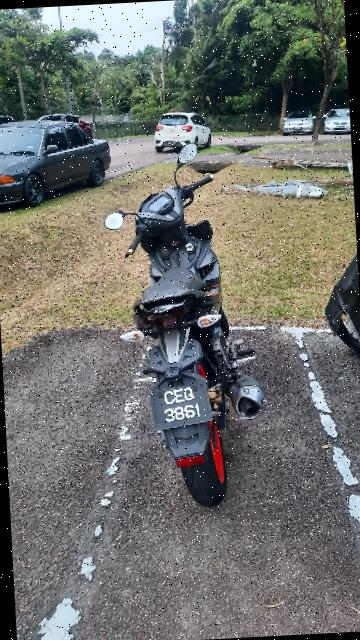License_Plate: (140, 382, 222, 435)
car: (1, 109, 116, 210), (148, 105, 219, 156)
motorcycle: (100, 133, 283, 507)
